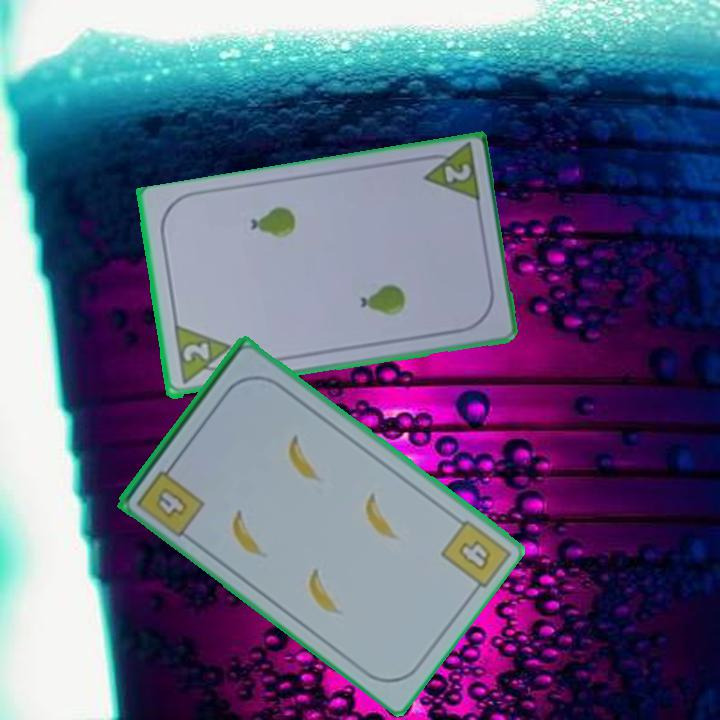2p: (415, 142, 483, 207), (179, 339, 212, 365)
4b: (133, 457, 207, 536), (455, 536, 495, 574)
